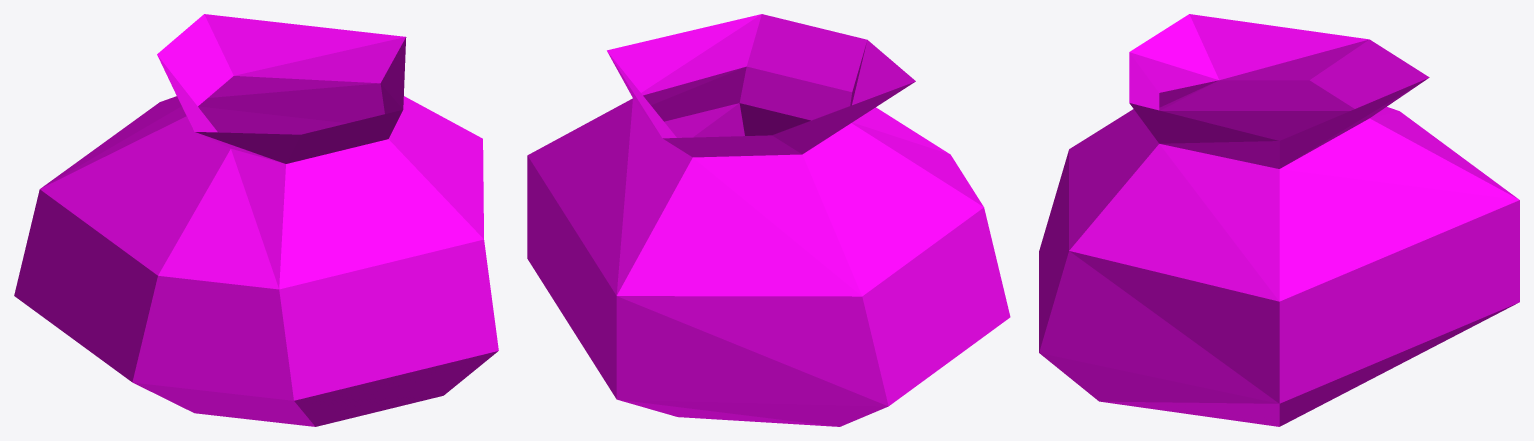
File: trawlernet.obj
The picture shows the model from 3 angles, left to right: view 1: azimuth 30°, elevation 25°; view 2: azimuth 150°, elevation 25°; view 3: azimuth 270°, elevation 25°; orthographic projection. The views are drawn at different scales.
Visible parts, largest first — view 1: trawlernet_back; view 2: trawlernet_back; view 3: trawlernet_back.
Part boxes in pixels (bbox=[...]): trawlernet_back: bbox=[14, 14, 498, 426]; trawlernet_back: bbox=[527, 14, 1010, 426]; trawlernet_back: bbox=[1039, 14, 1519, 426].
Size of the model in its own units: 1.28 by 0.84 by 1.28.
